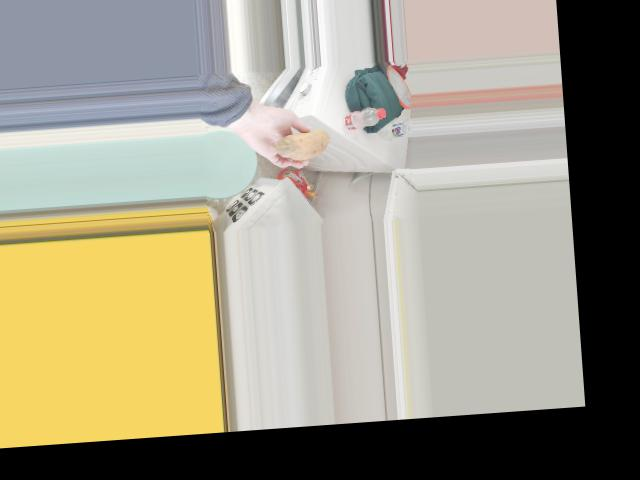sweet_potato: (266, 125, 334, 158)
